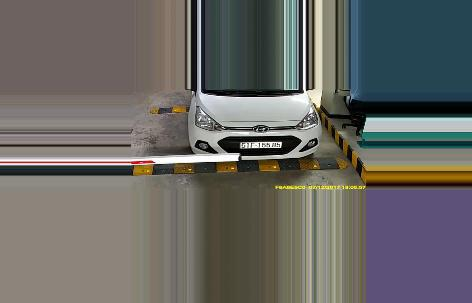License_Plate: (238, 139, 282, 151)
